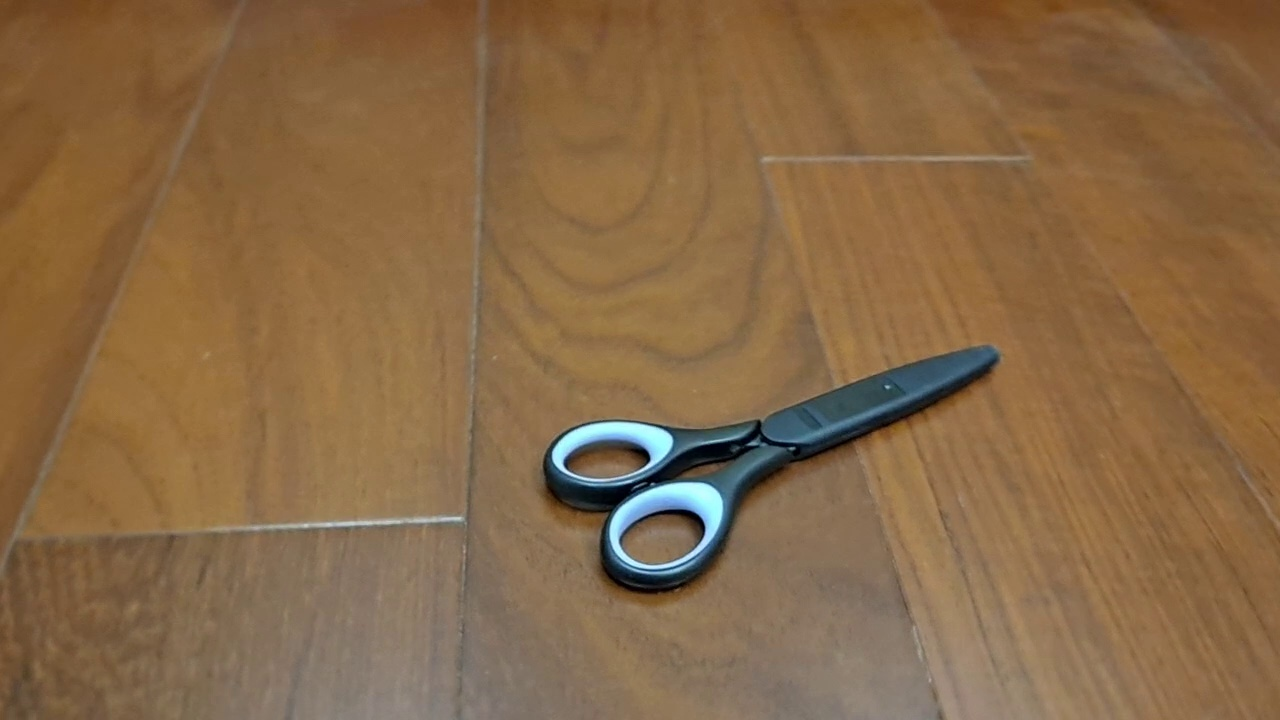scissors: (541, 341, 1004, 596)
